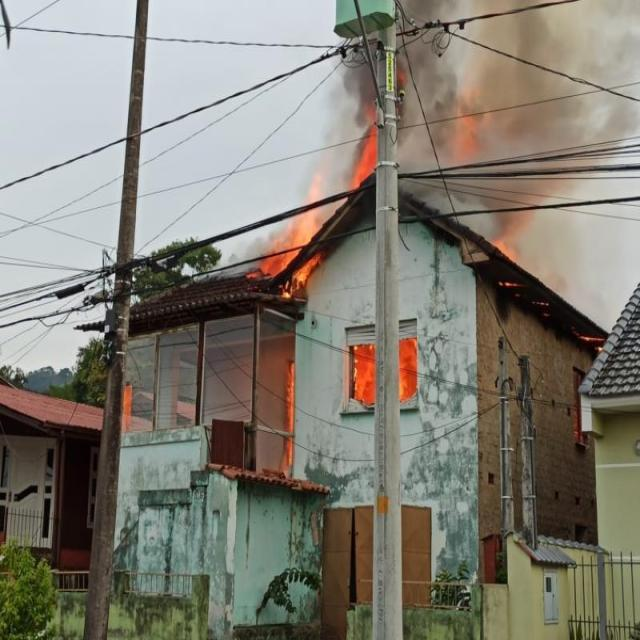Fire: (242, 175, 322, 300), (349, 125, 377, 190), (352, 344, 374, 406), (398, 336, 418, 402), (283, 362, 295, 467)
Smoke: (396, 1, 640, 240), (326, 27, 376, 185), (194, 227, 285, 283)
